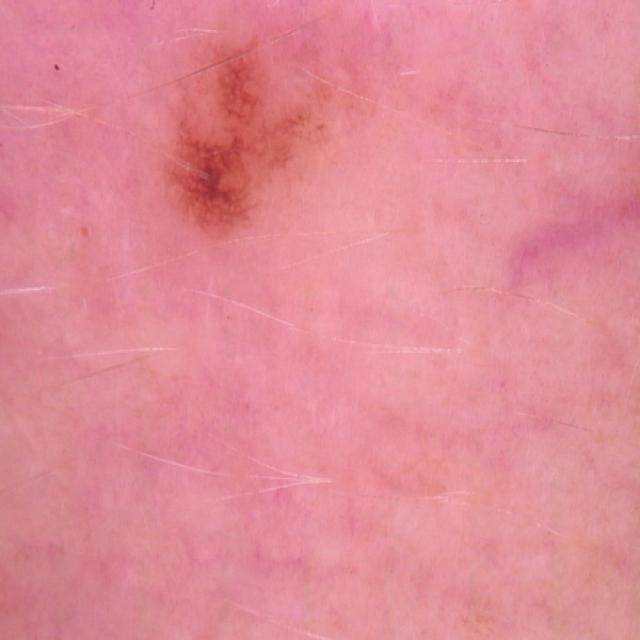NV: (151, 23, 390, 247)
